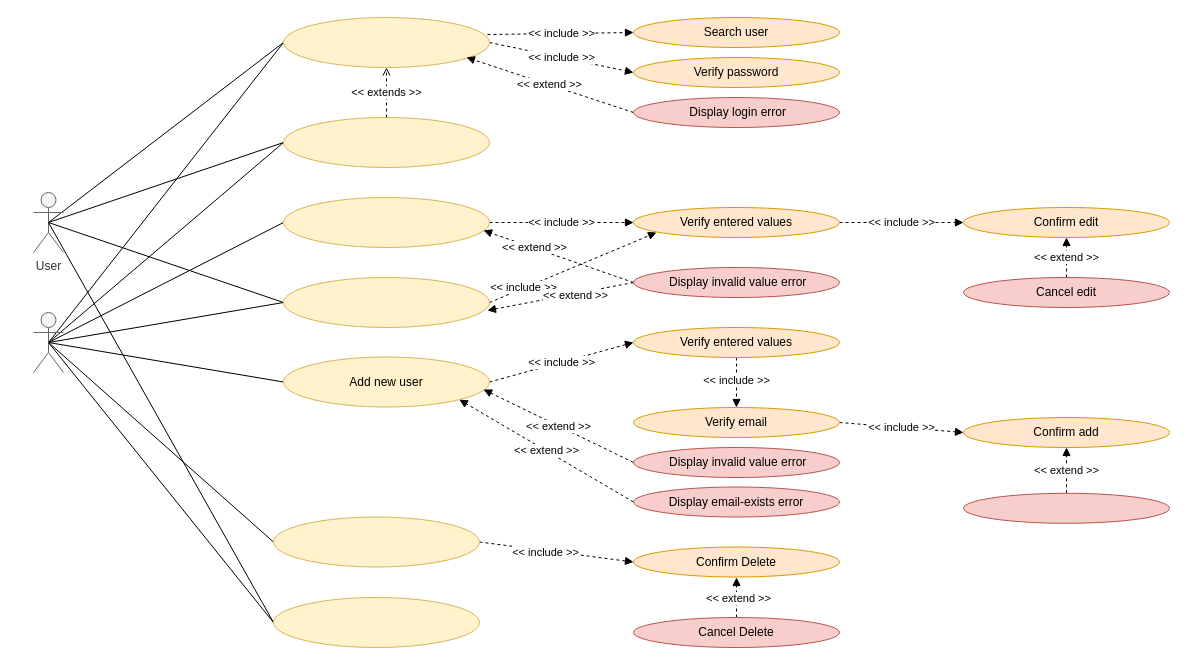
This 1187x665 diagram has some shape labels left out. Each missing label, with the centre of its shape:
Admin User: point (48, 342)
Cancel add: point (1066, 507)
Delete user: point (376, 541)
Edit other users' details: point (386, 222)
Edit own user details: point (386, 302)
Login: point (386, 42)
Logout: point (376, 622)
View all users: point (386, 142)
